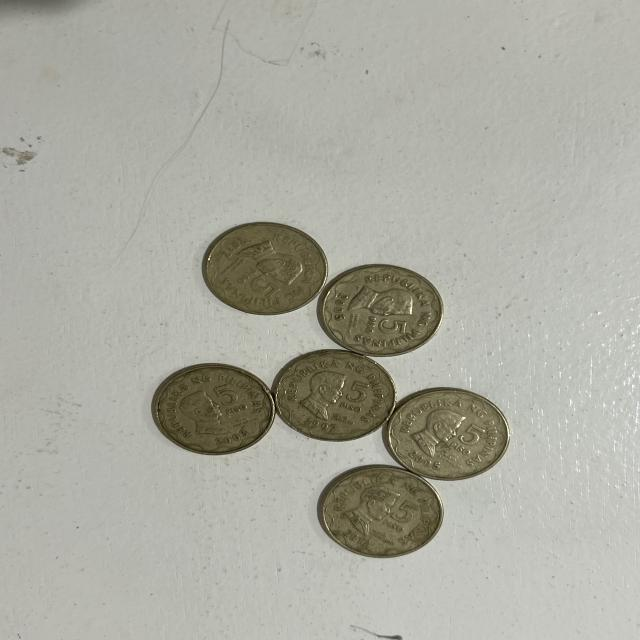5_Old_Front: (228, 264, 286, 305), (356, 312, 418, 348), (331, 372, 372, 416), (445, 421, 490, 454), (213, 381, 249, 416), (380, 498, 414, 525)
